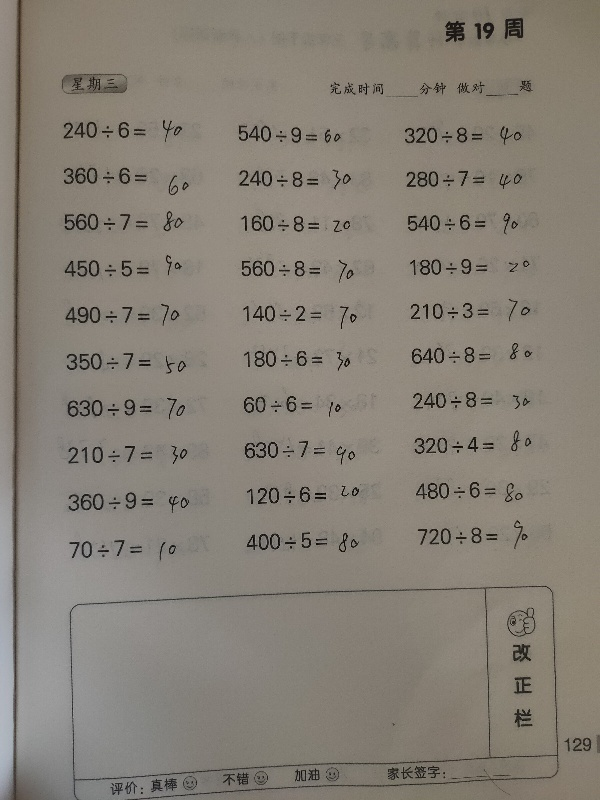equation: (57, 152, 201, 203), (53, 340, 197, 388), (233, 243, 372, 291), (59, 244, 201, 285), (53, 392, 209, 429), (405, 515, 535, 559), (229, 296, 368, 336), (231, 432, 361, 473), (405, 337, 549, 373), (404, 292, 544, 329), (407, 425, 551, 460), (59, 204, 192, 241), (407, 475, 539, 511), (240, 471, 365, 508), (236, 345, 357, 383), (404, 385, 544, 413), (62, 300, 184, 330), (60, 117, 186, 146), (64, 488, 193, 515), (242, 527, 363, 555), (236, 166, 355, 194), (404, 210, 522, 238), (64, 442, 191, 468), (402, 123, 526, 149), (65, 535, 180, 562), (402, 166, 525, 191), (407, 255, 534, 279), (236, 211, 353, 236), (239, 391, 344, 418), (234, 122, 344, 146)
